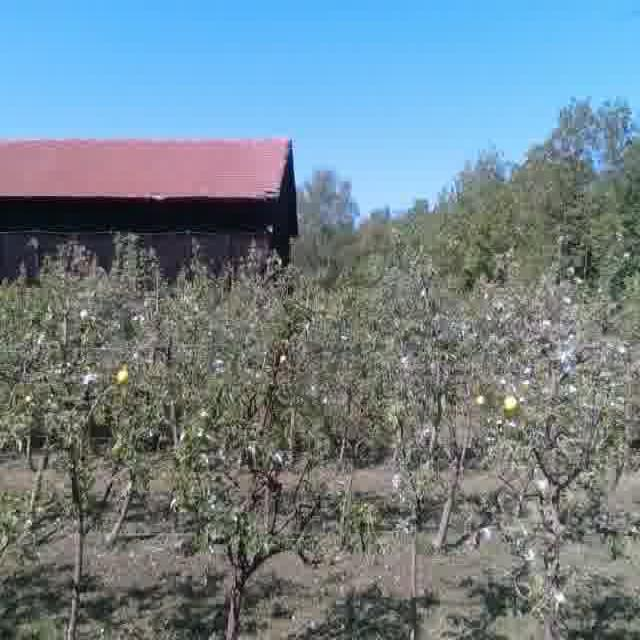yellow: (116, 367, 129, 384), (505, 395, 517, 411), (477, 394, 487, 406)
